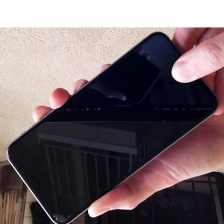phone: (4, 28, 221, 224)
